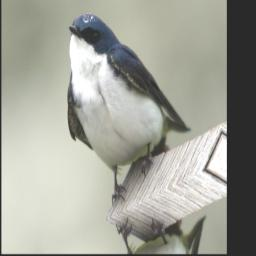Swallow: (50, 0, 198, 223)
